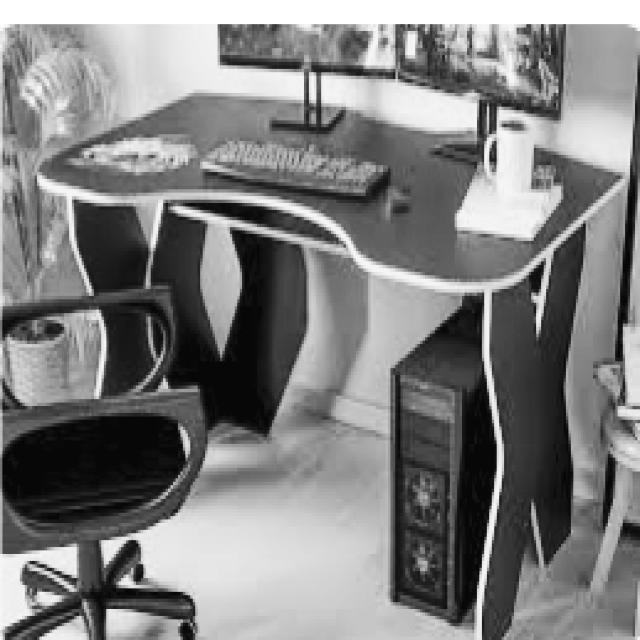table: (35, 83, 628, 636)
